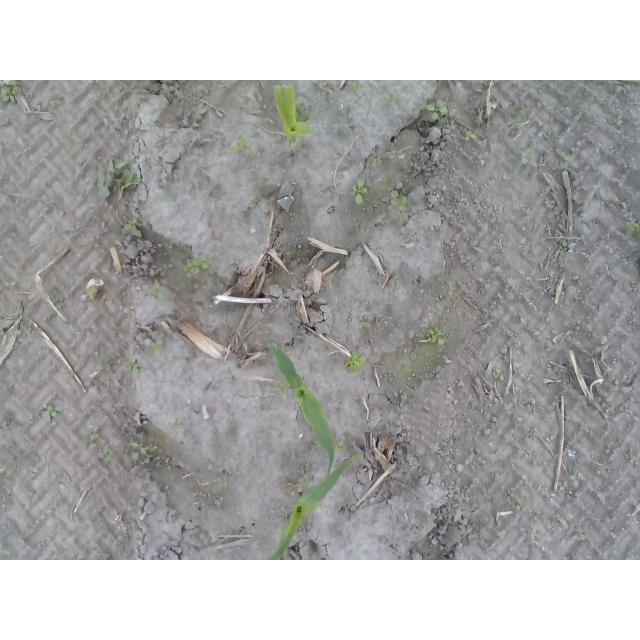Maize: (260, 452, 358, 560), (265, 342, 335, 479), (273, 83, 314, 156)
Weeds: (97, 157, 140, 203), (81, 432, 113, 465), (183, 256, 214, 281), (131, 435, 160, 458), (344, 349, 369, 375), (0, 81, 24, 108), (427, 97, 450, 121), (425, 327, 449, 349), (352, 175, 369, 205), (228, 131, 251, 153), (388, 188, 409, 210), (120, 355, 140, 377), (95, 355, 117, 373), (383, 94, 401, 113), (151, 334, 165, 358), (150, 279, 165, 301), (623, 218, 640, 237), (295, 103, 311, 122), (42, 404, 64, 417), (520, 149, 537, 165), (320, 90, 337, 106), (272, 382, 288, 398), (559, 151, 576, 166), (125, 218, 144, 231), (193, 105, 208, 119), (510, 110, 526, 123), (495, 368, 510, 381), (335, 440, 347, 456), (516, 498, 529, 512), (53, 295, 66, 309), (171, 418, 185, 431), (350, 83, 364, 96), (297, 471, 312, 483), (559, 240, 569, 257), (463, 130, 477, 142), (614, 112, 624, 128), (372, 156, 384, 169), (449, 280, 458, 296), (287, 447, 297, 461), (249, 189, 263, 199), (309, 439, 323, 449), (6, 464, 16, 477), (216, 478, 229, 488), (3, 280, 17, 289), (362, 319, 374, 329), (27, 320, 34, 337), (479, 80, 489, 89), (575, 532, 586, 540), (568, 472, 577, 481), (392, 272, 401, 281), (504, 223, 513, 232), (576, 104, 585, 113), (0, 328, 6, 337), (0, 544, 4, 552)
